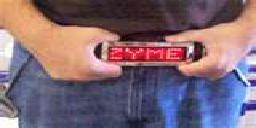LED: (107, 45, 186, 62)
